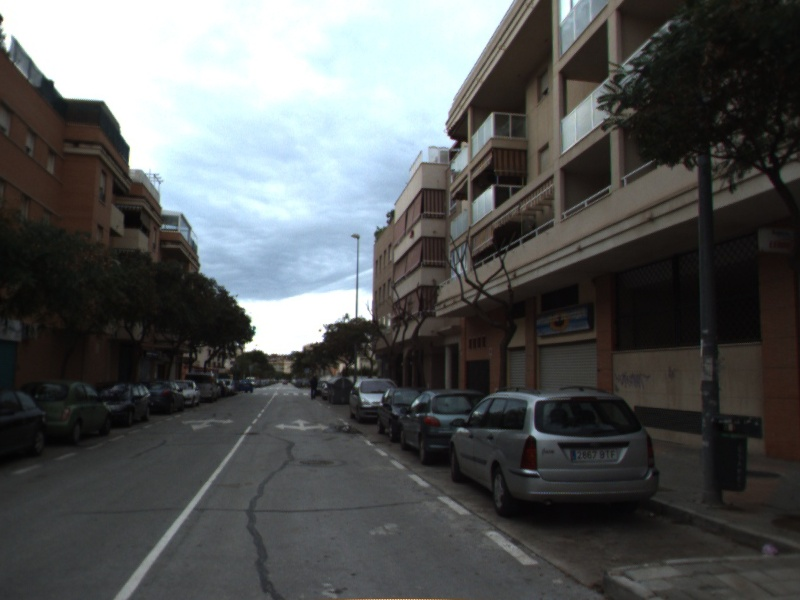STRAIGHT_LEFT_RIGHT: (273, 417, 331, 433)
